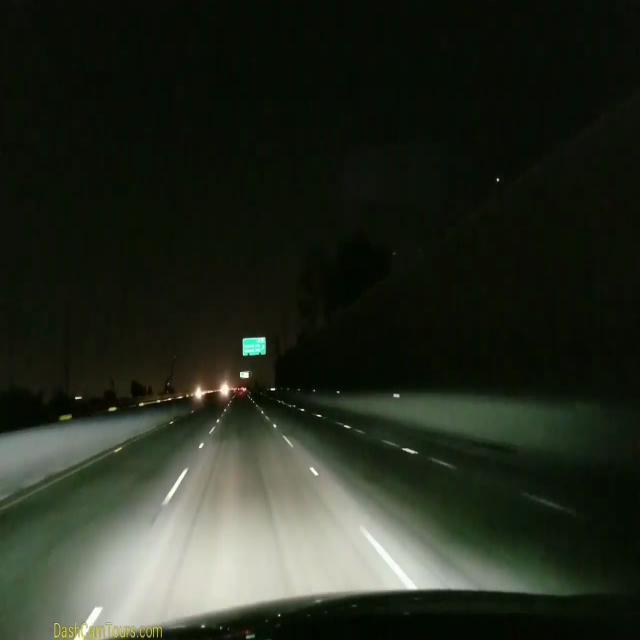street-signs: (242, 337, 266, 355), (240, 372, 250, 378)
